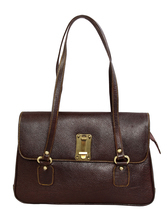bag: (10, 13, 163, 206)
